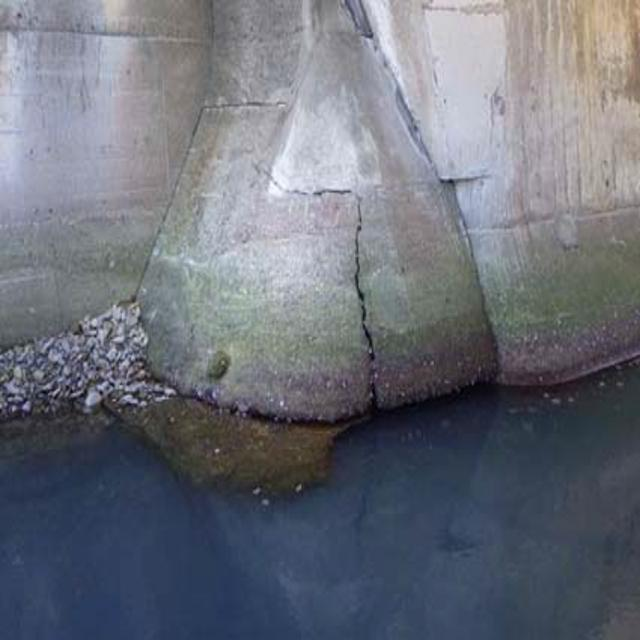crack: (250, 144, 401, 414), (193, 79, 300, 120)
